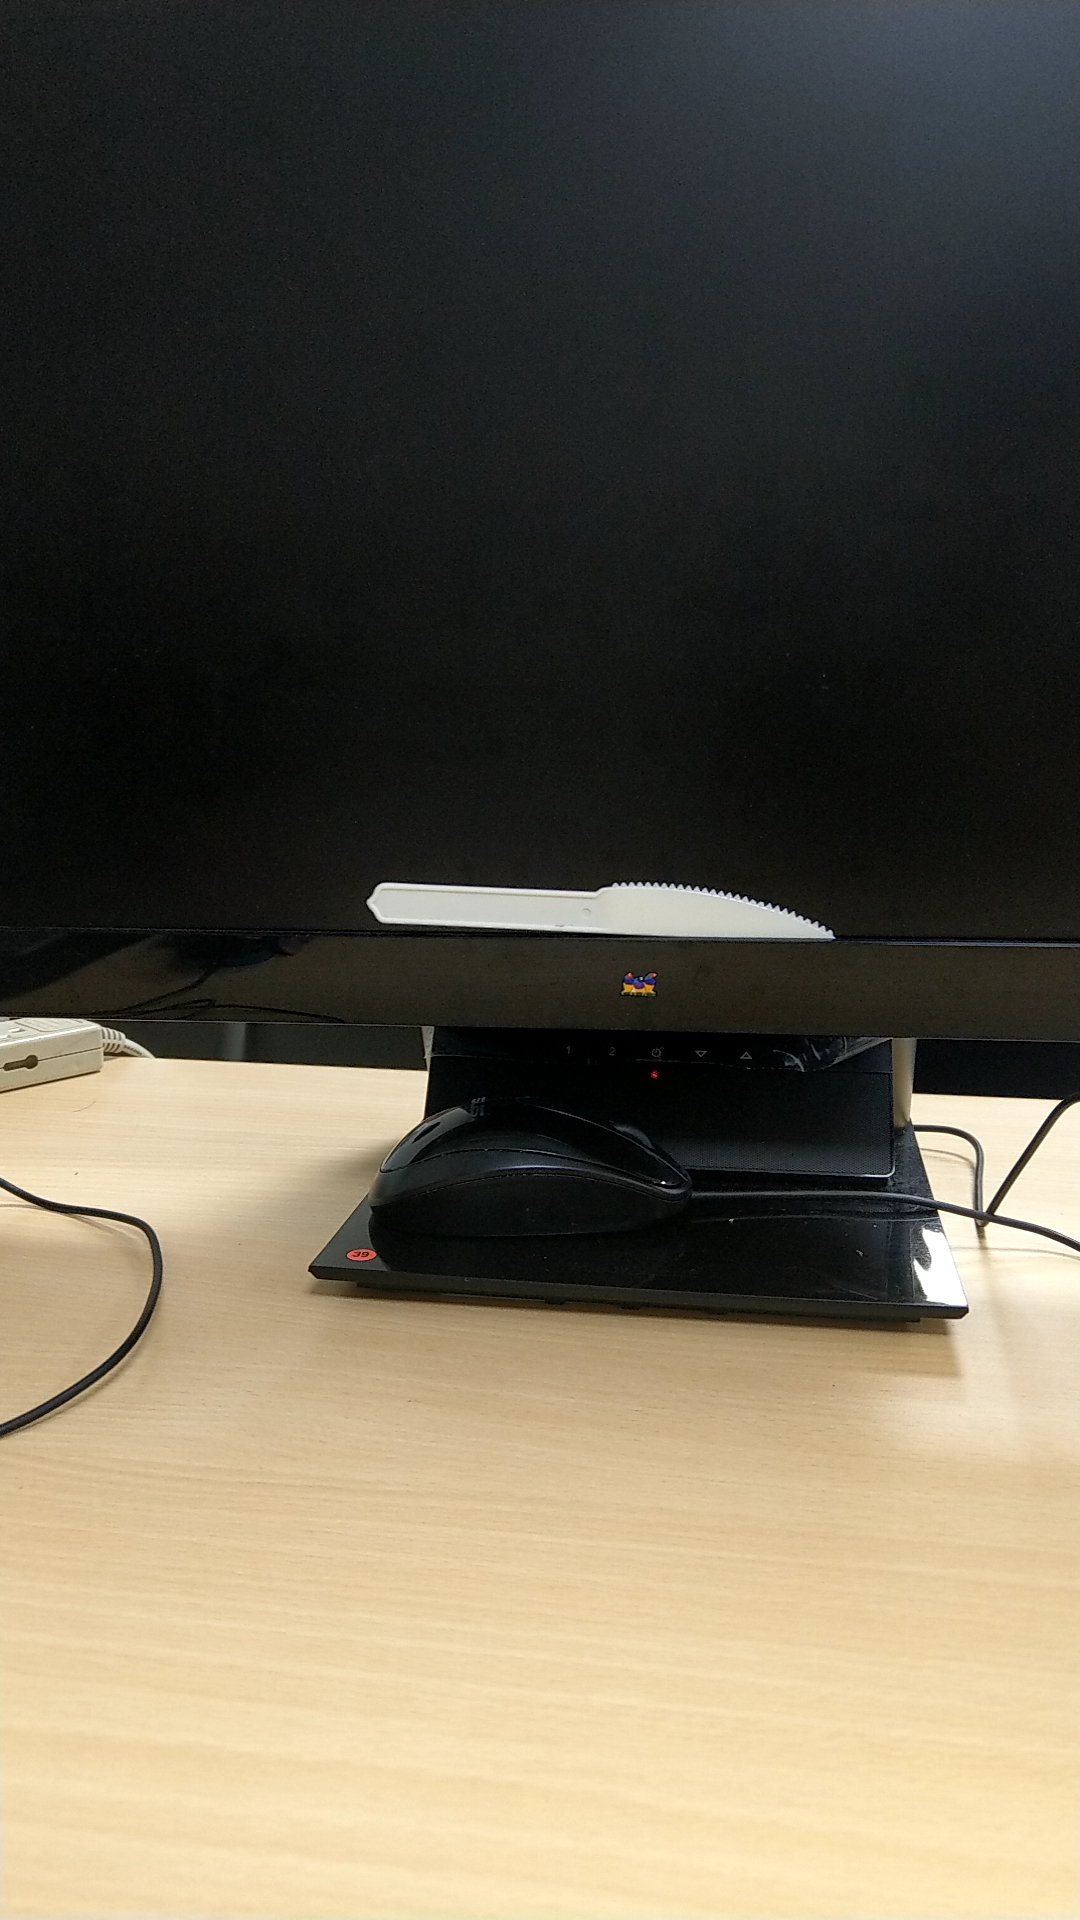knife: (348, 855, 845, 964)
